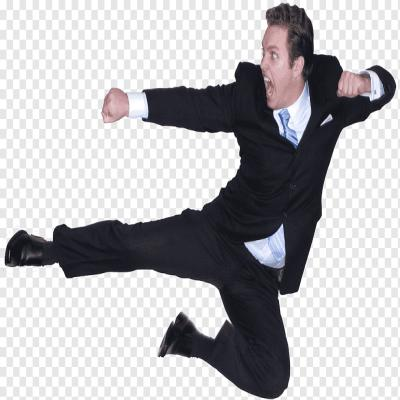angry: (258, 28, 296, 112)
